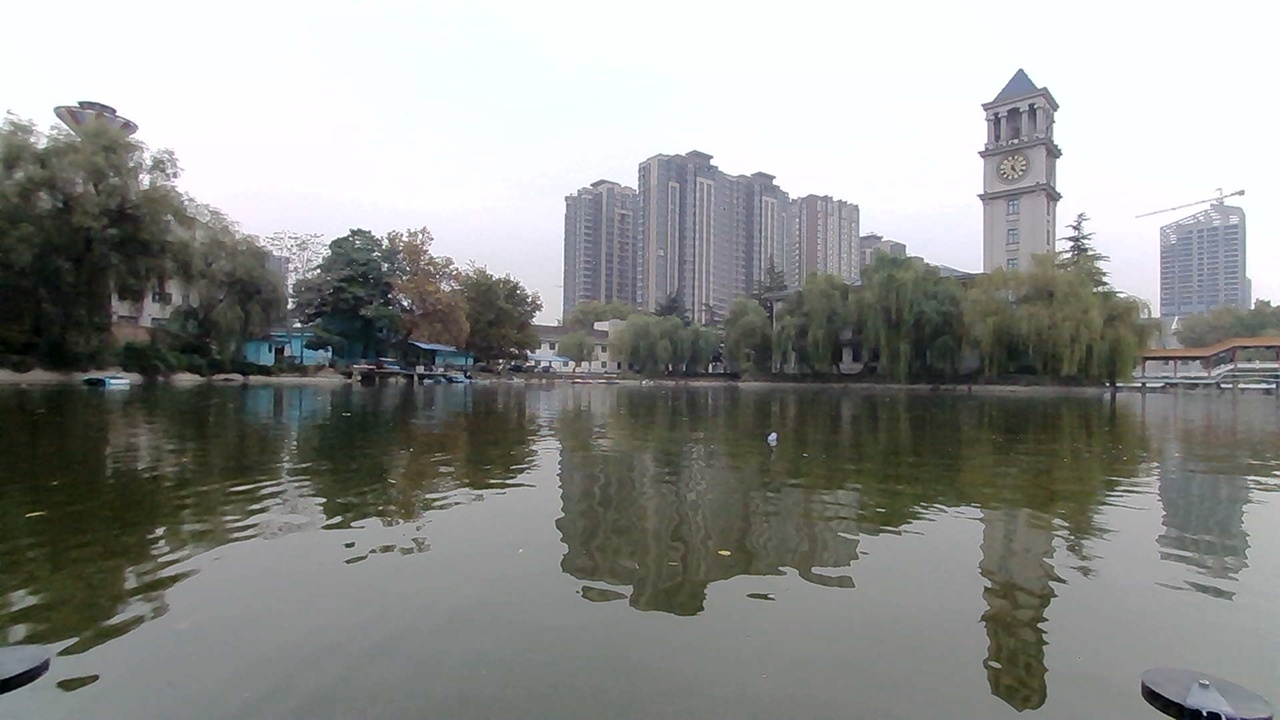bottle: (729, 422, 781, 454)
